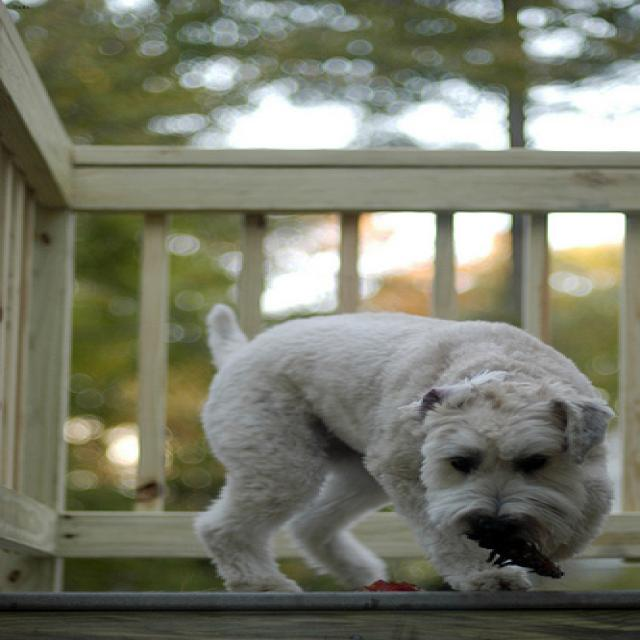dog-wheaten_terrier: (186, 294, 632, 605)
